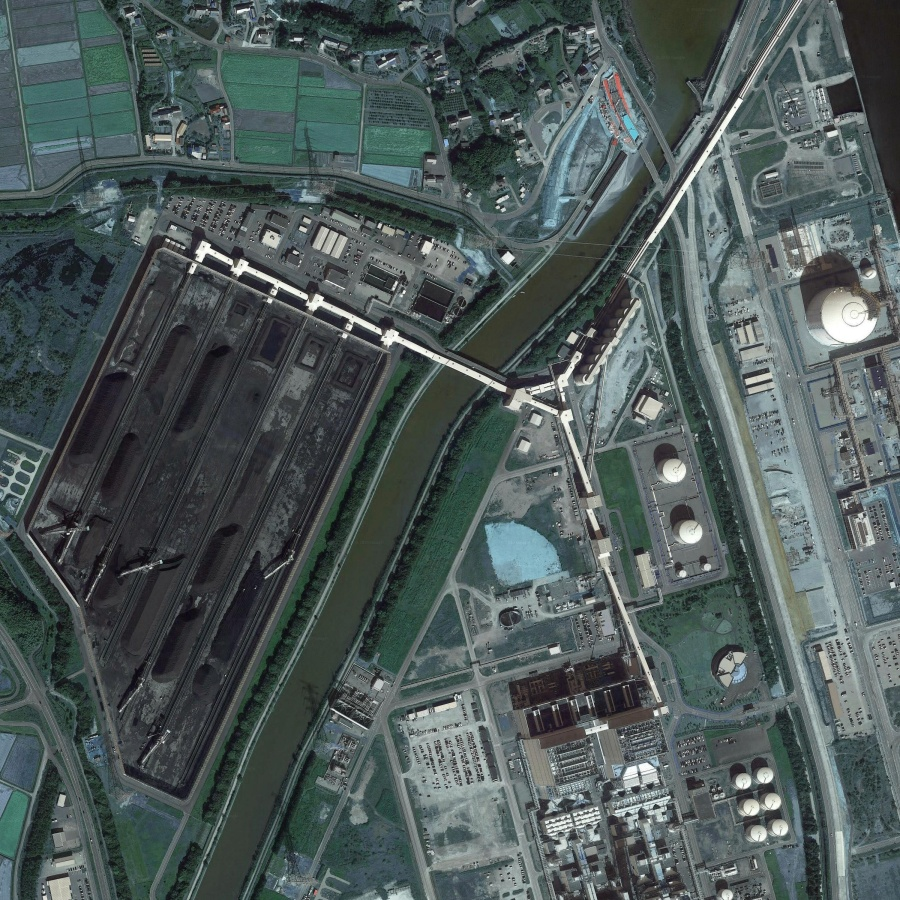PowerPlant: (27, 238, 394, 794)
